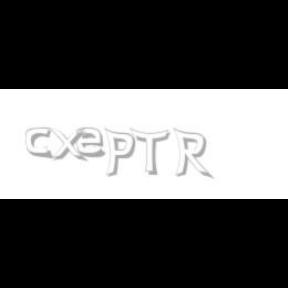P: (104, 128, 136, 178)
R: (173, 128, 211, 180)
T: (130, 128, 170, 176)
c: (26, 128, 54, 160)
e: (76, 128, 110, 158)
x: (49, 128, 91, 162)
